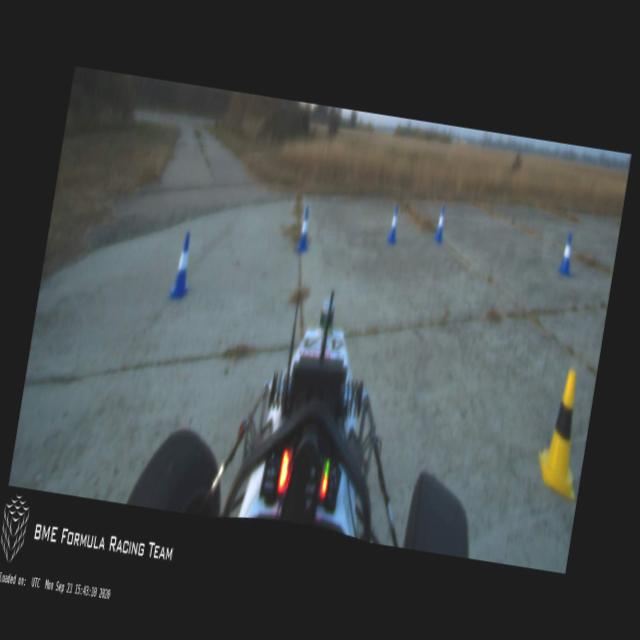blue_cone: (169, 232, 197, 300), (296, 205, 314, 252), (558, 232, 576, 276), (387, 204, 402, 245), (434, 205, 448, 243)
yellow_cone: (533, 368, 595, 499)
